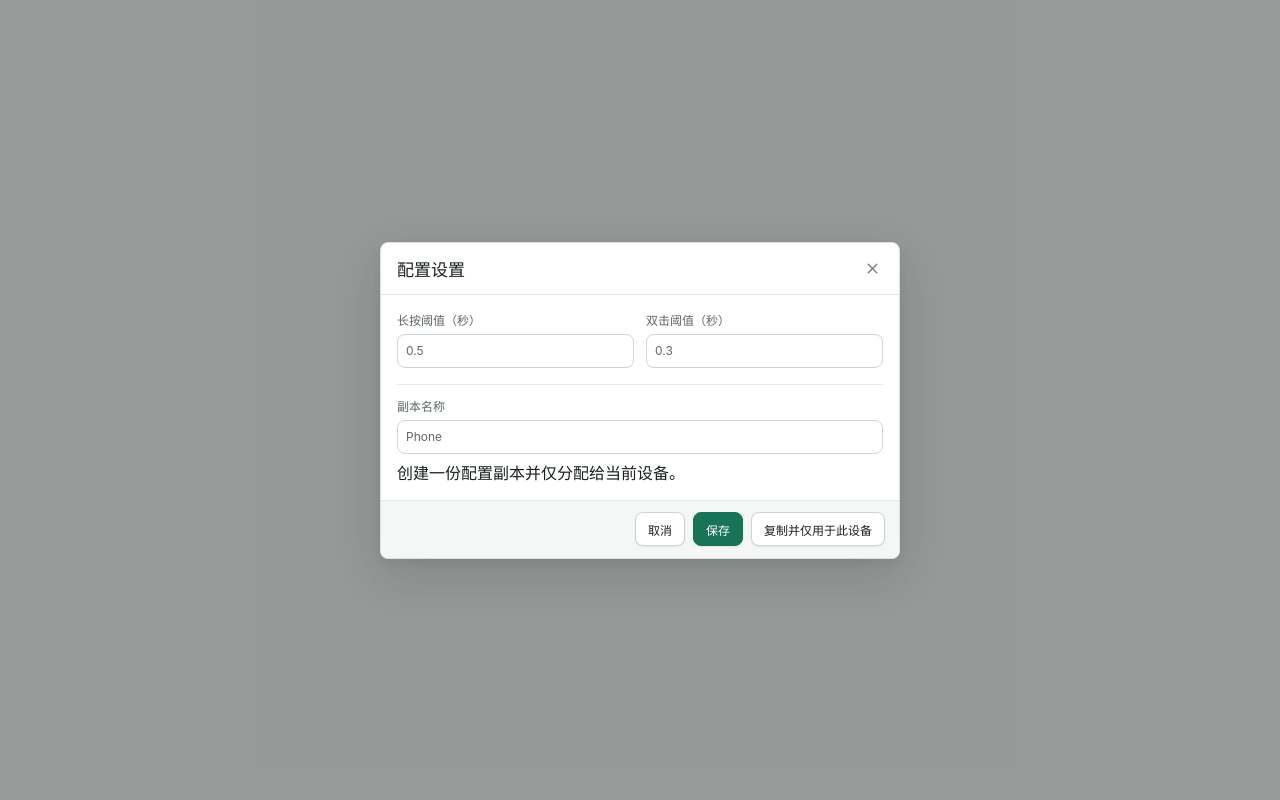
Test case: rejects timing values outside the second-based ranges
Clear the number field labelled "双击阈值（秒）" at (764, 350), box [646,334,883,368]
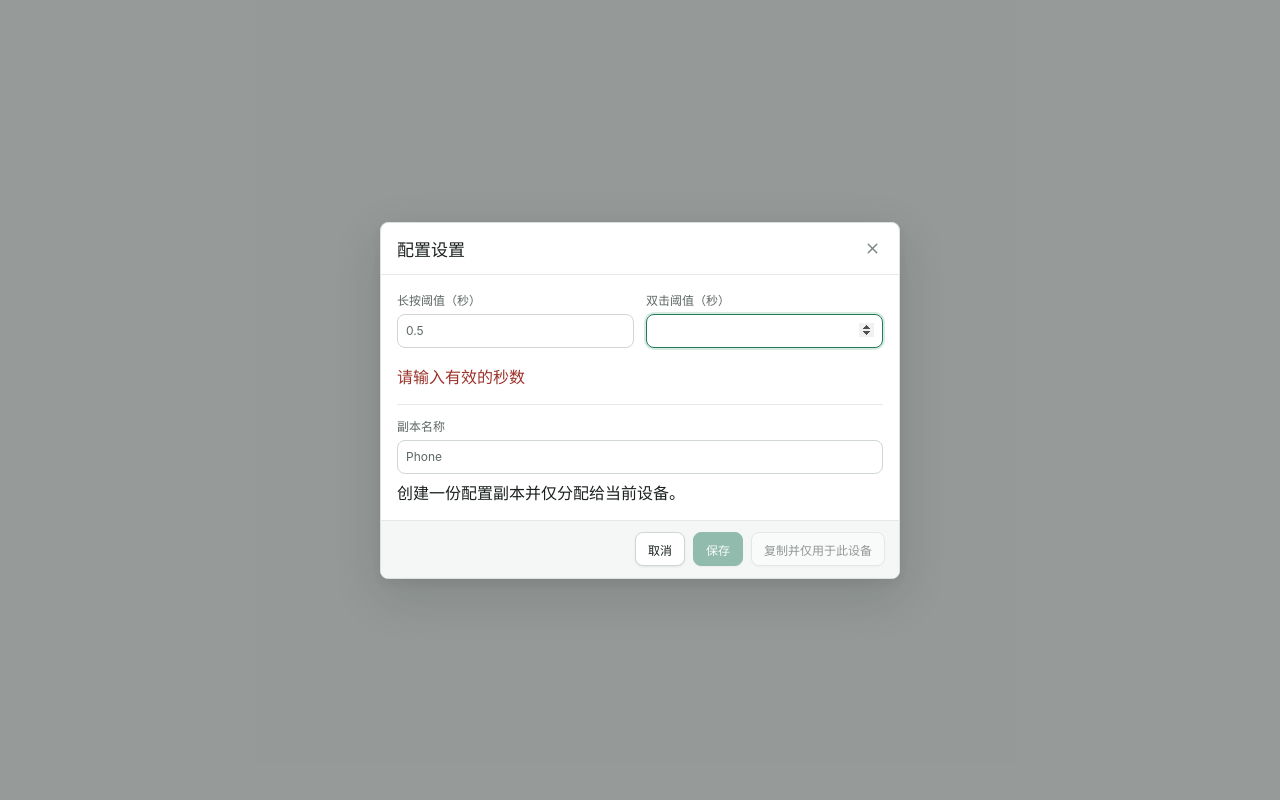
Type "0.05" into the number field labelled "双击阈值（秒）" at (764, 330), box [646,314,883,348]
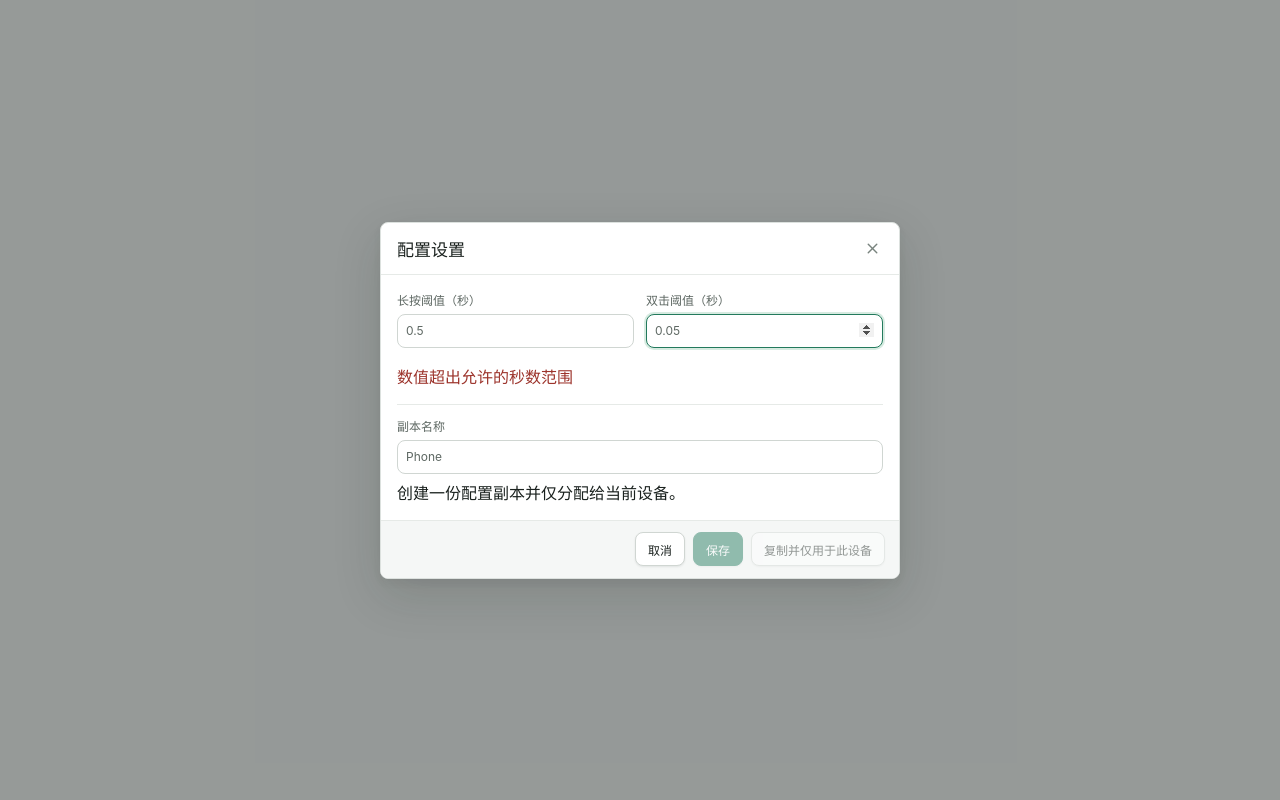
Expected: the button "保存" is disabled, [693,532,743,566]
Expected: the message shows "秒数范围", [397,366,573,386]
